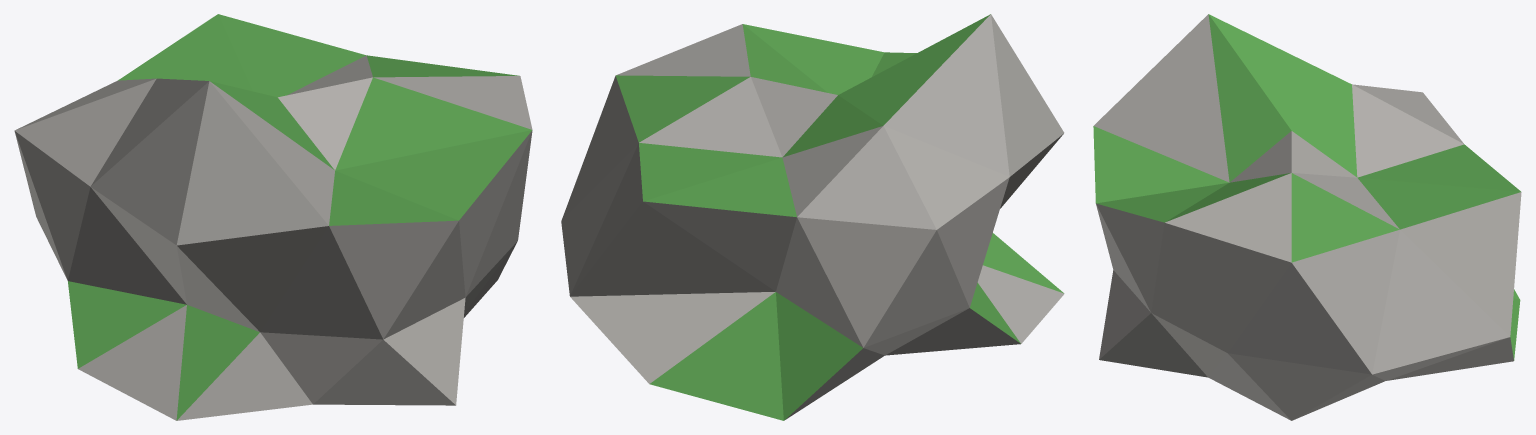
The model's file is rock_5.glb.
3 views of the same model, side by side, from view 1: azimuth 30°, elevation 25°; view 2: azimuth 150°, elevation 25°; view 3: azimuth 270°, elevation 25° (orthographic). The views are drawn at different scales.
Parts seen in each view (by area): view 1: Rock_5; view 2: Rock_5; view 3: Rock_5.
Part boxes in pixels (box(x1,y1,x2,y2)): Rock_5: box(14, 14, 532, 420); Rock_5: box(561, 14, 1064, 420); Rock_5: box(1093, 14, 1521, 420).
Size of the model in its own units: 2.19 by 1.48 by 2.12.
